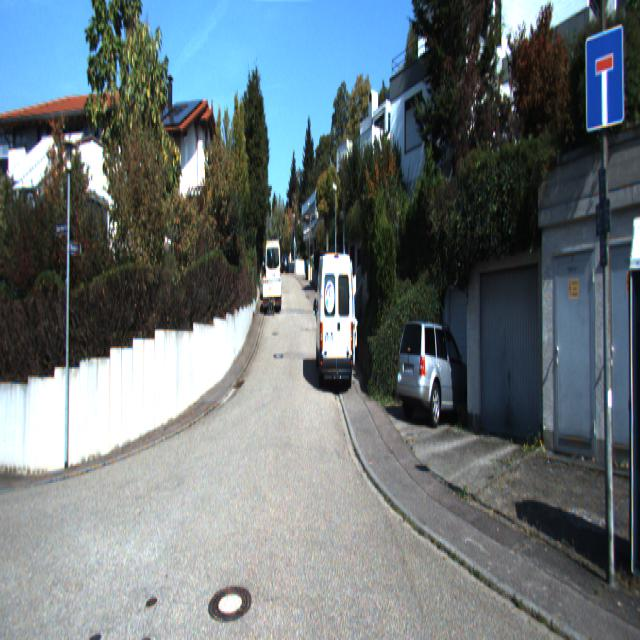Car: (398, 319, 483, 430), (315, 245, 357, 390), (266, 240, 282, 304), (263, 277, 284, 310)
